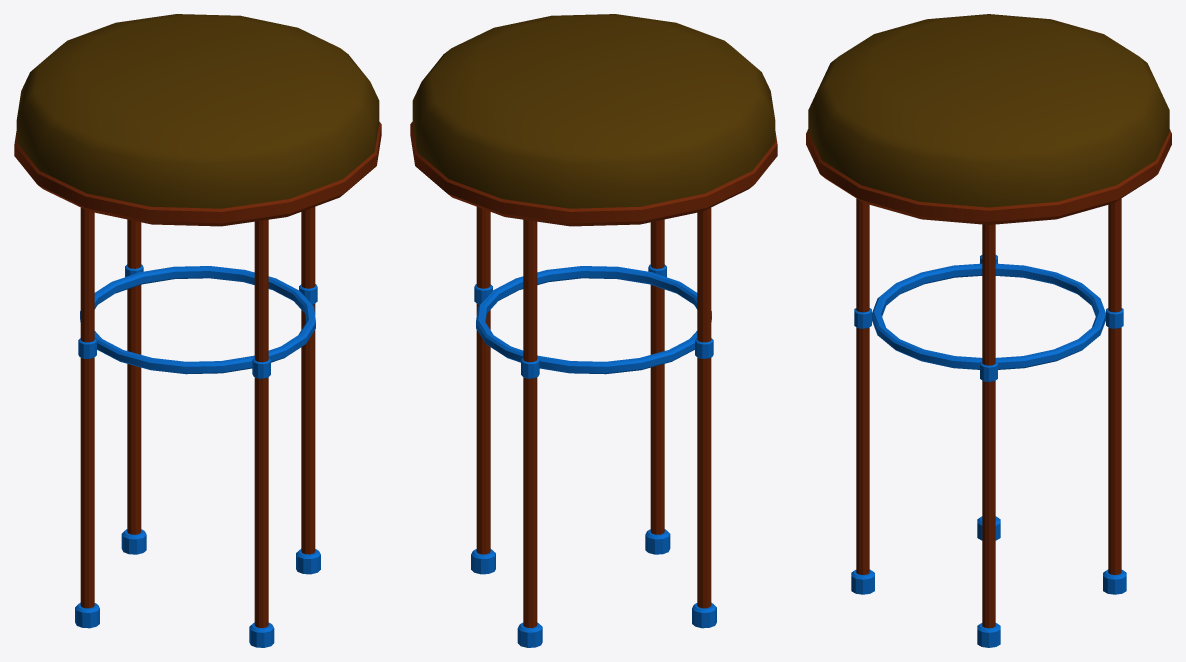
Rendered from Stool.fbx.
The picture shows the model from 3 angles, left to right: view 1: azimuth 30°, elevation 25°; view 2: azimuth 150°, elevation 25°; view 3: azimuth 270°, elevation 25°; orthographic projection.
Visible parts, largest first — view 1: Stool; view 2: Stool; view 3: Stool.
Part boxes in pixels (x1,y1,x2,y2): Stool: (14, 14, 381, 647); Stool: (410, 14, 777, 647); Stool: (806, 14, 1171, 647).
Size of the model in its own units: 0.5987 by 0.9444 by 0.5987.
